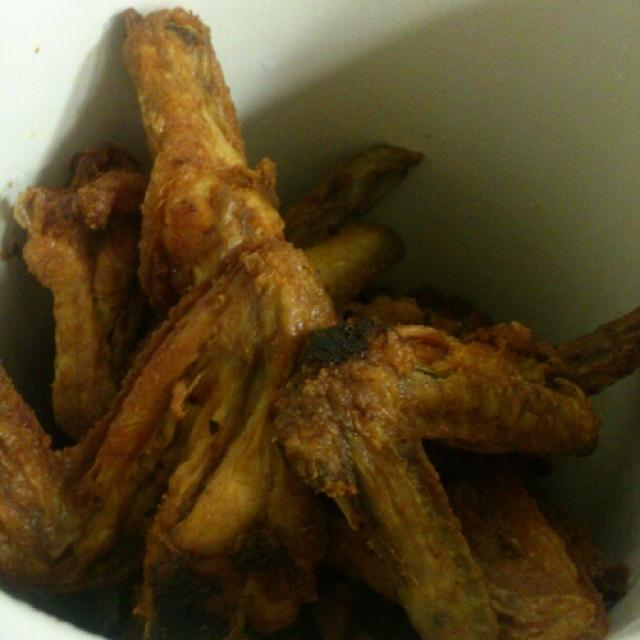鸡肉料理 含炸鸡: (22, 18, 603, 610)
